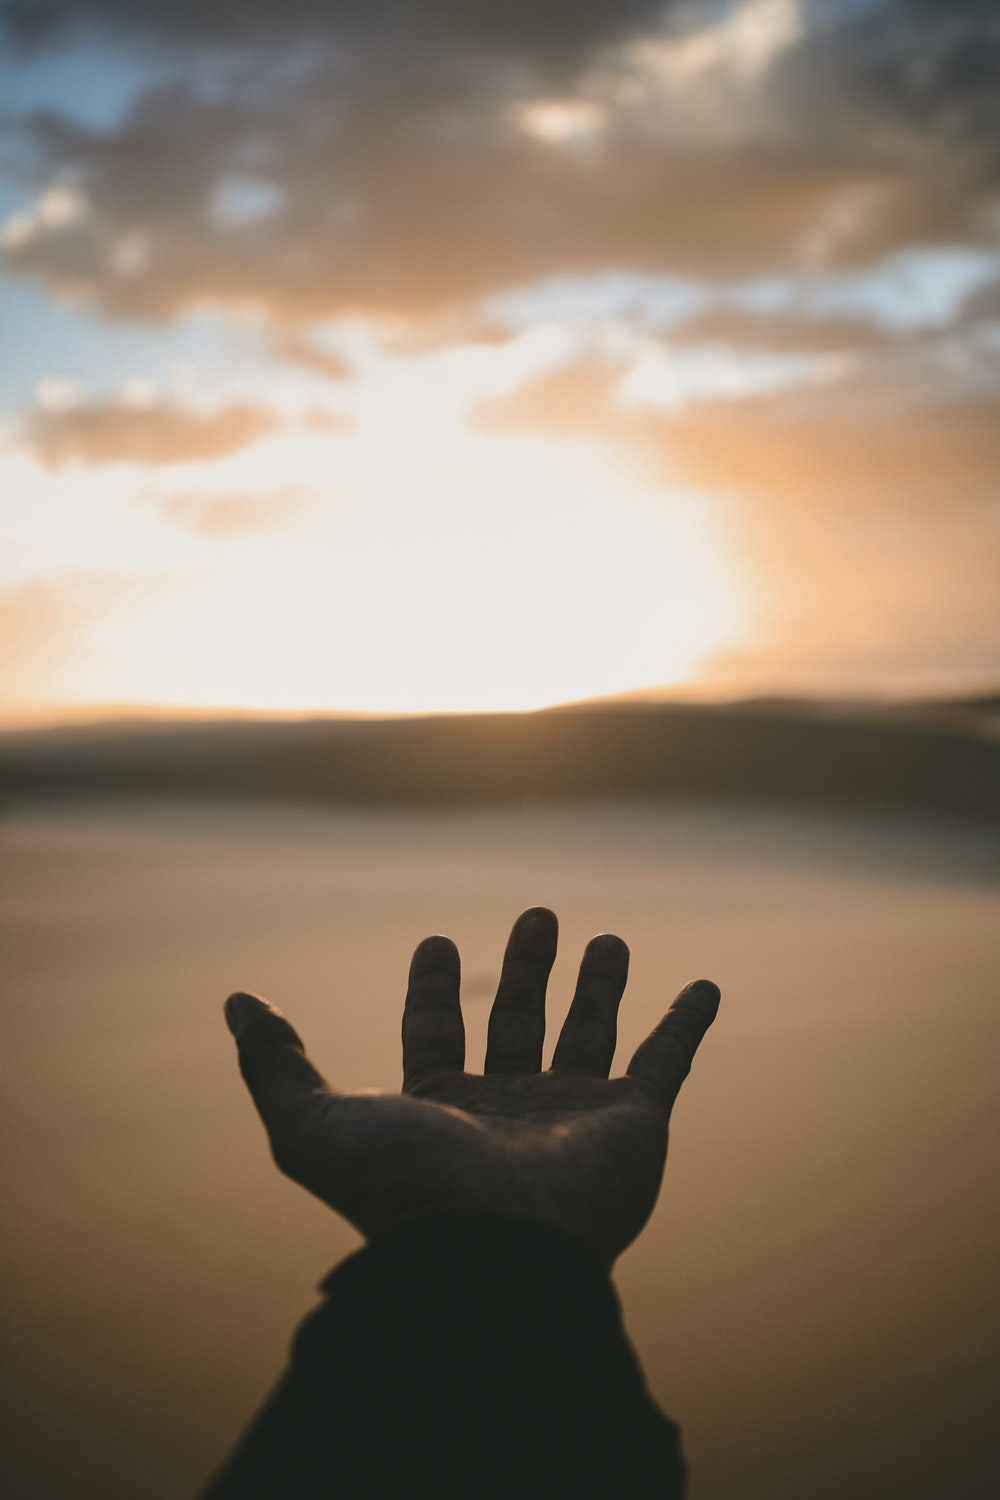palm: (339, 1040, 672, 1269)
